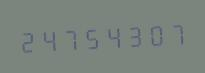five: (80, 21, 100, 53)
four: (38, 23, 58, 55), (101, 20, 121, 51)
seven: (59, 22, 79, 54), (164, 16, 184, 48)
three: (122, 18, 142, 50)
two: (17, 24, 37, 56)
zero: (143, 17, 163, 49)
